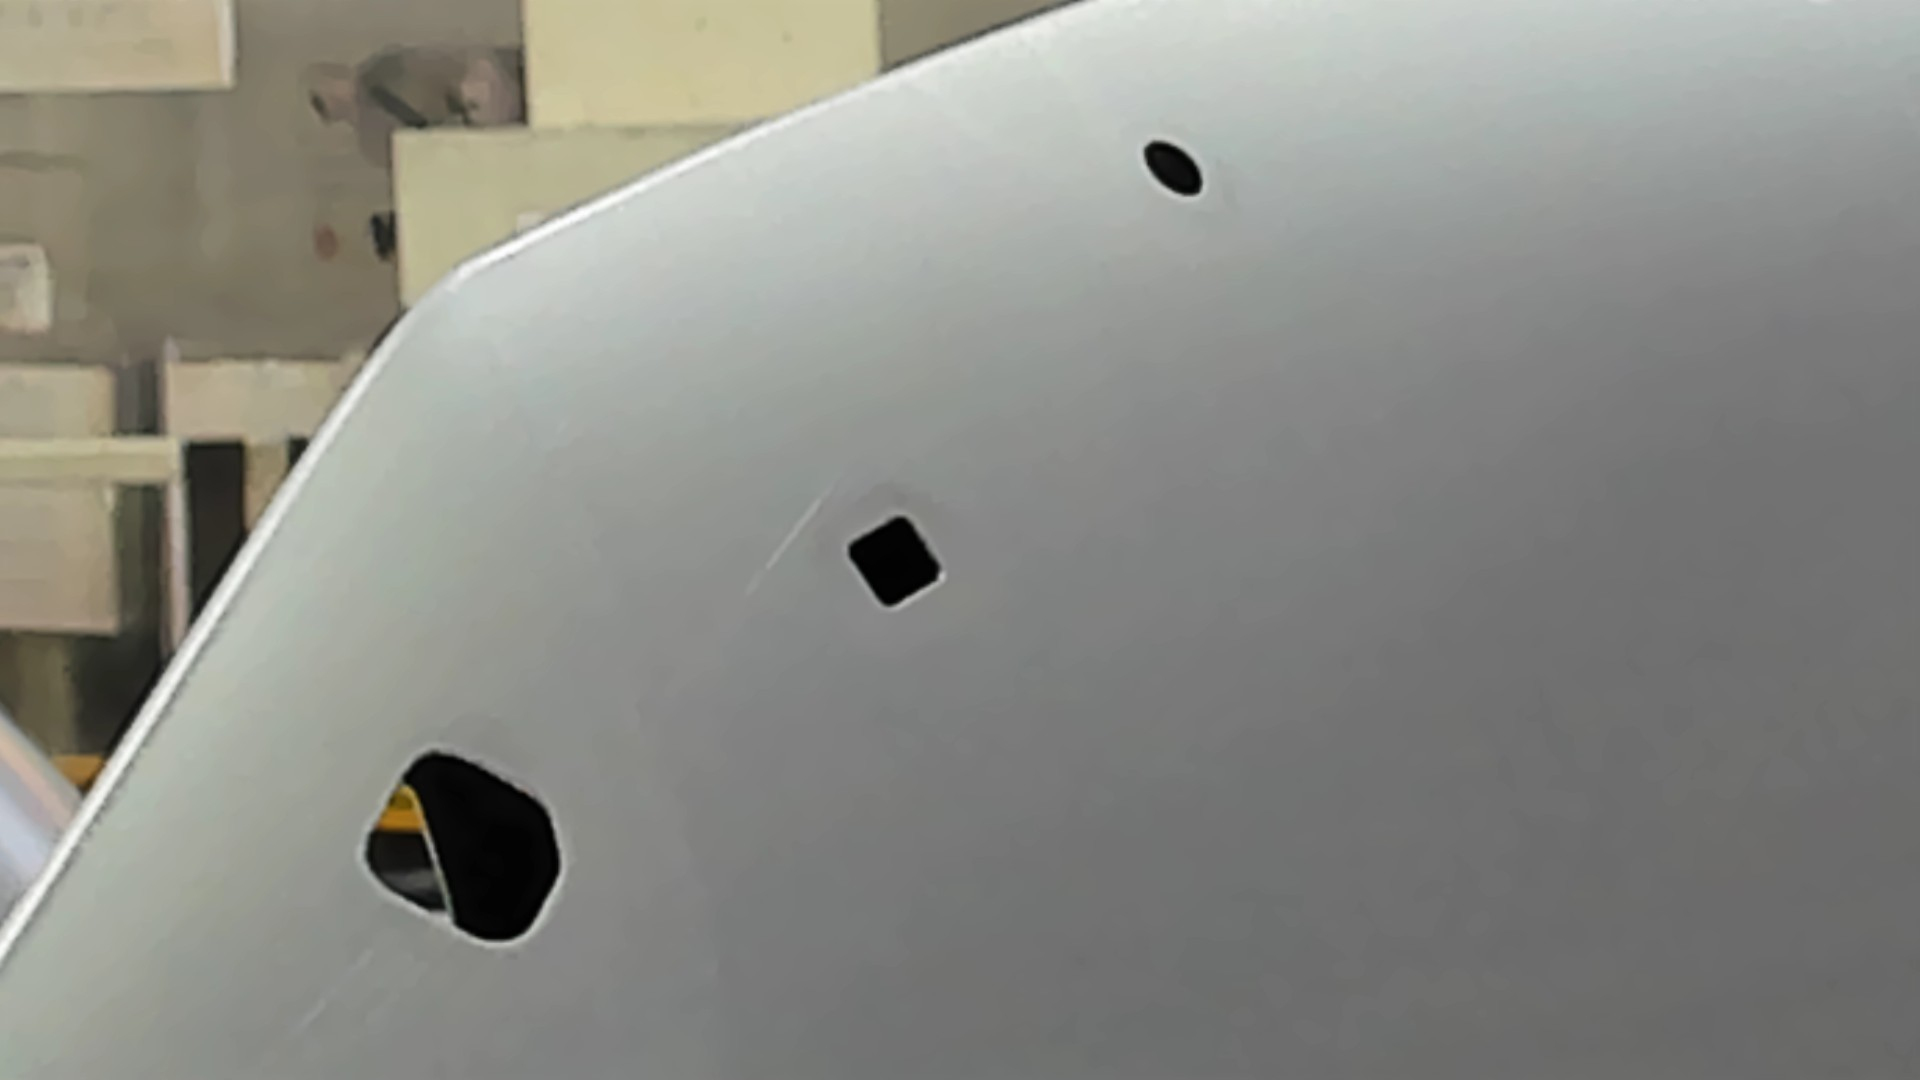chico: (1139, 136, 1211, 200)
grande: (356, 740, 568, 957)
mediano: (843, 509, 948, 618)
